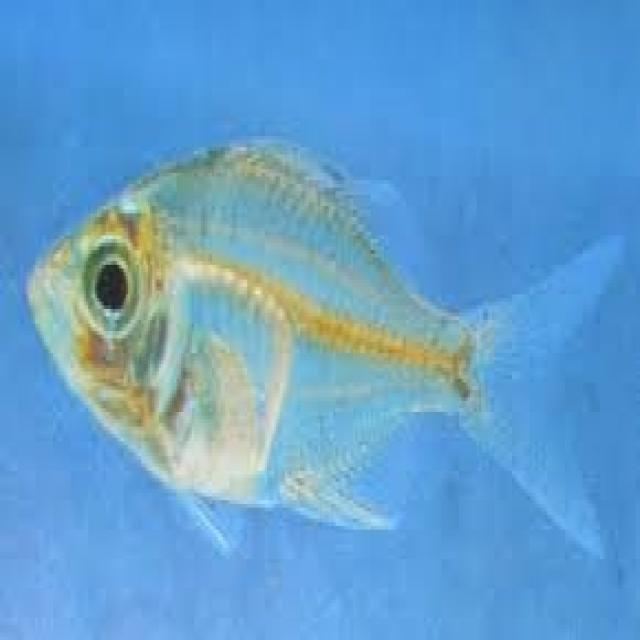Glass-Perchlet: (15, 75, 626, 614)
